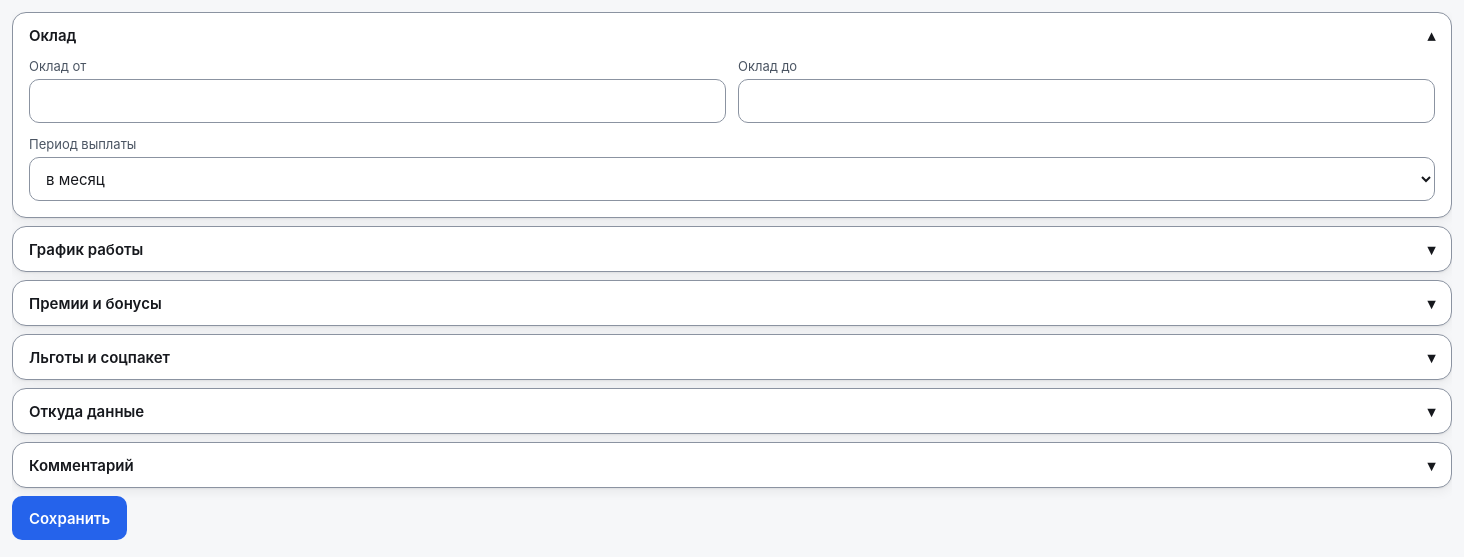
Test: повторный клик по заголовку закрывает блок
The image size is (1464, 557).
Click the button "Оклад ▴" at [53, 35], box x1=13 y1=13 x2=1451 y2=57
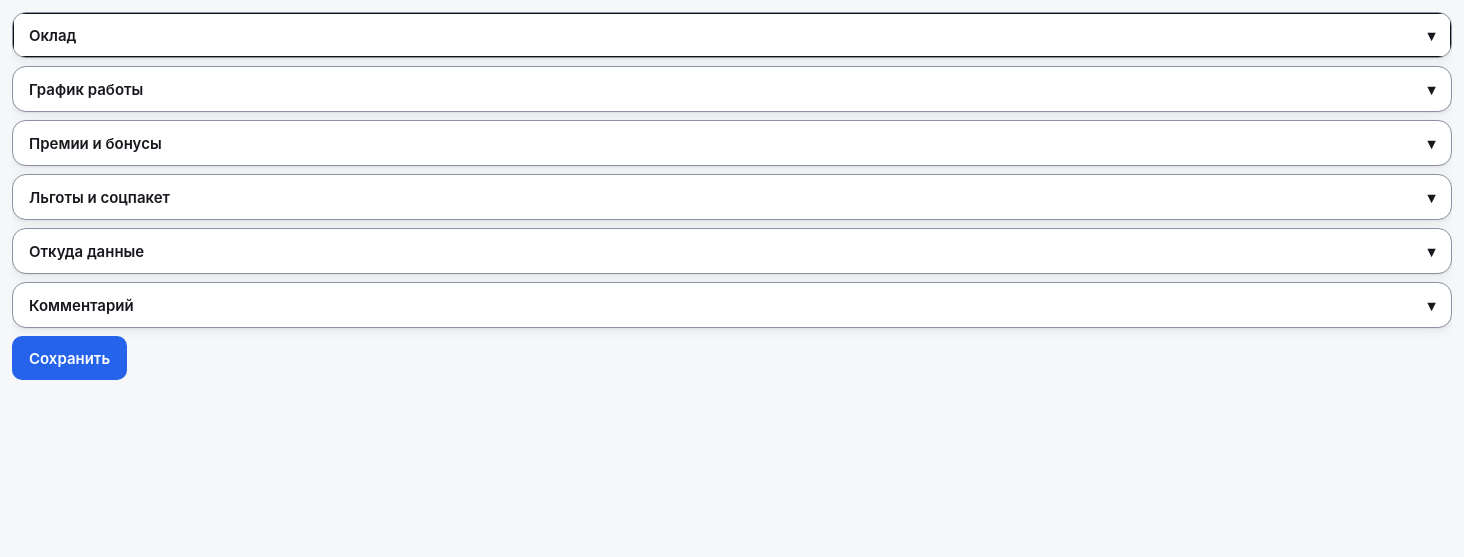
Check: the label labelled "Оклад от" is gone
